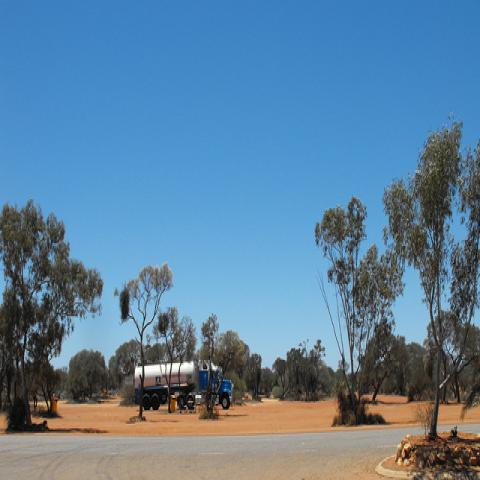truck: (133, 359, 234, 412)
